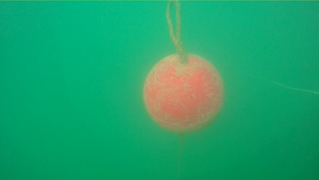buoy: (142, 52, 225, 135)
